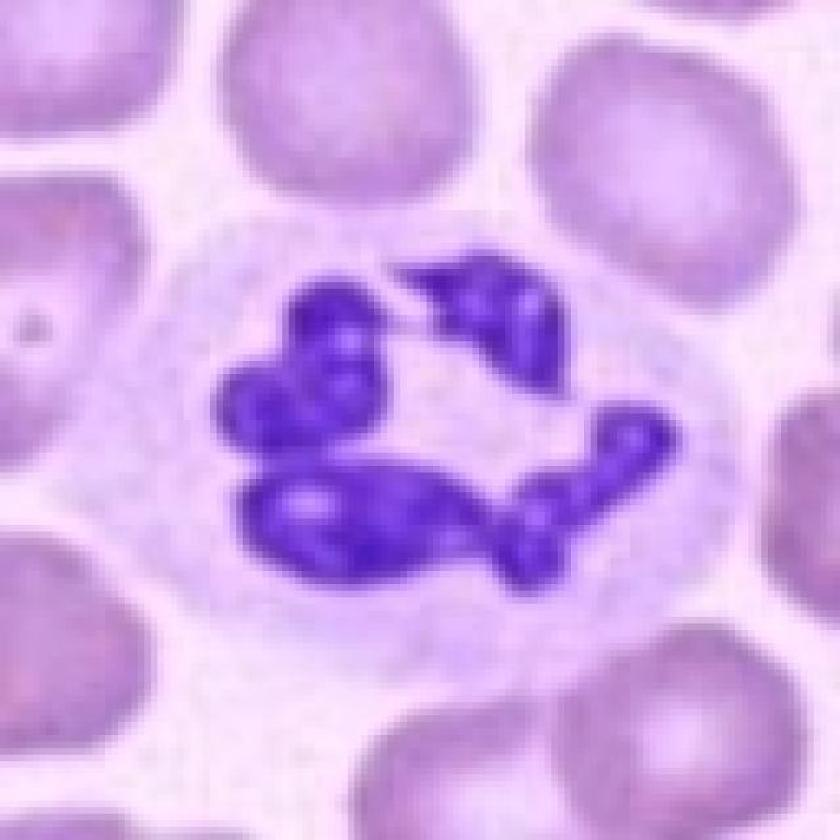neutrophil: (110, 167, 741, 655)
